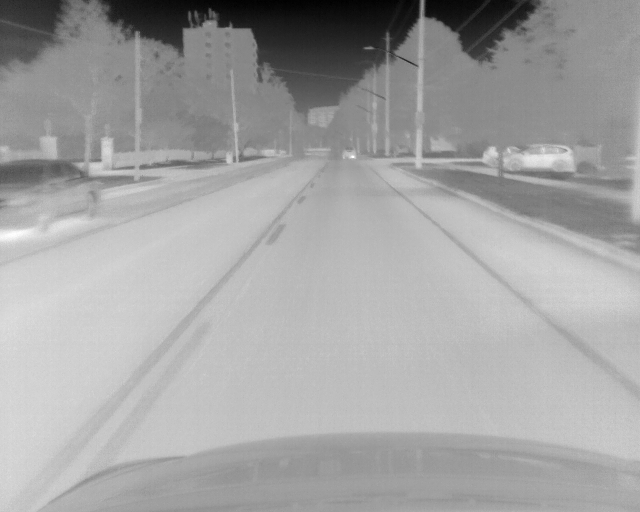car: (1, 159, 106, 234), (503, 143, 575, 178), (480, 145, 520, 168), (340, 144, 356, 161)
